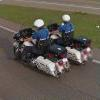Motorcycle: (9, 16, 98, 80)
